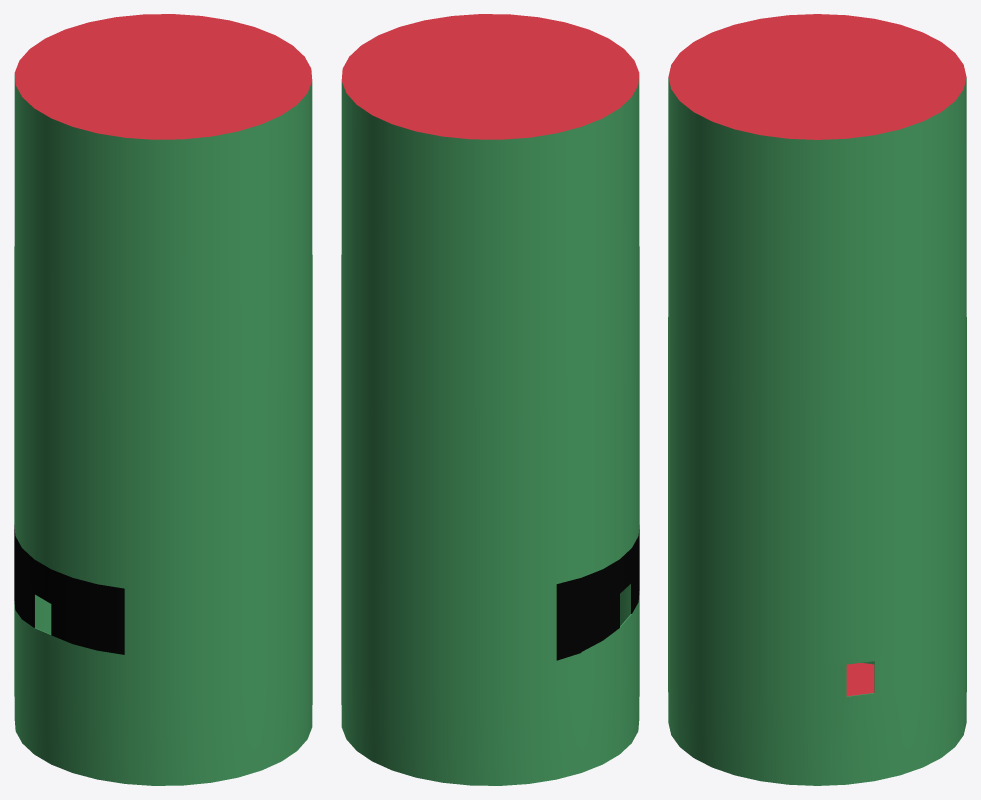
Rendered from Museum_Shell_Main.fbx.
3 renders of one model, left to right at view 1: azimuth 30°, elevation 25°; view 2: azimuth 150°, elevation 25°; view 3: azimuth 270°, elevation 25°, orthographic.
Parts seen in each view (by area): view 1: Museum_Shell_Main; view 2: Museum_Shell_Main; view 3: Museum_Shell_Main.
Boxes of the visible parts, bbox=[...] form: Museum_Shell_Main: bbox=[14, 14, 312, 785]; Museum_Shell_Main: bbox=[341, 14, 639, 785]; Museum_Shell_Main: bbox=[668, 14, 966, 785].
Size of the model in its own units: 4025 by 9605 by 4025.
